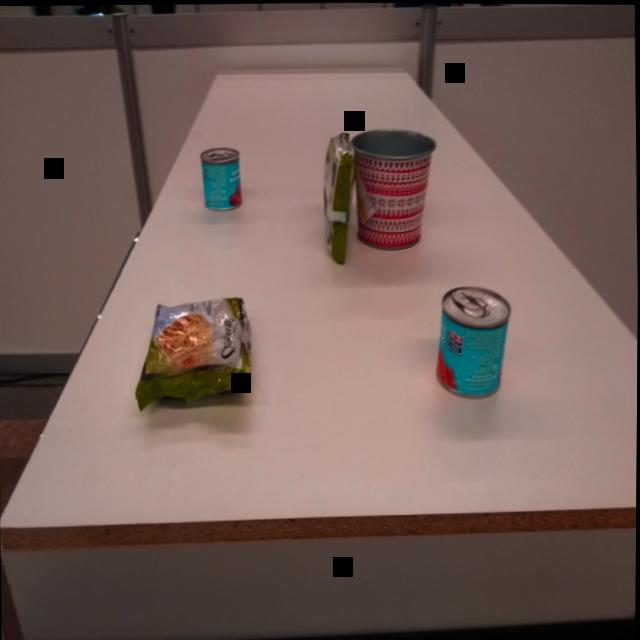noodles: (126, 286, 260, 415), (312, 123, 361, 270)
sausages: (430, 279, 516, 403), (197, 143, 248, 213)
